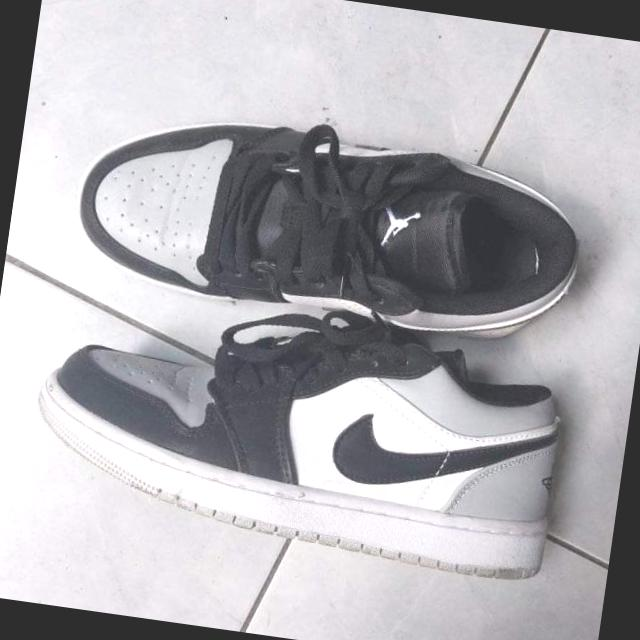nike_fake_jordan: (17, 272, 579, 589), (65, 100, 600, 358)
